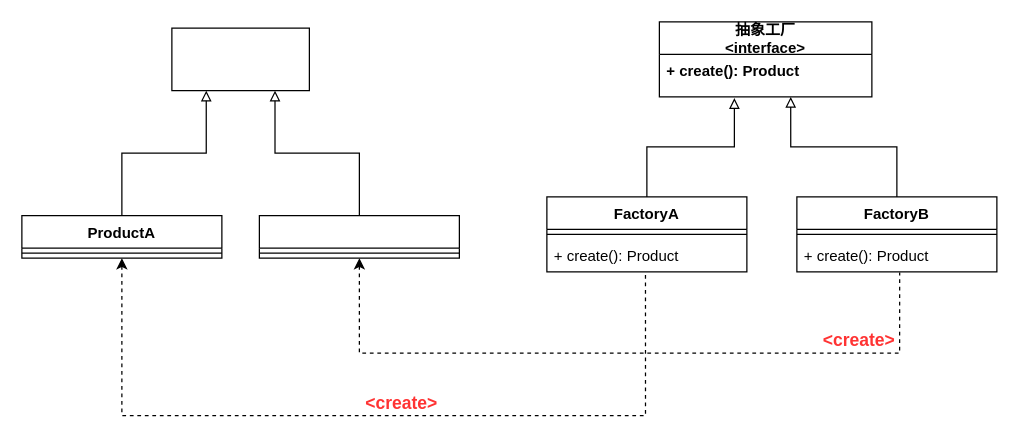
This 1019x448 diagram has some shape labels left out. The shapes that lost their labels are listed below. From the top down, each one's centre as x and y in pixels, then its label:
At point 240,59: "«interface» 抽象产品Product".
At point 358,236: "ProductV".
